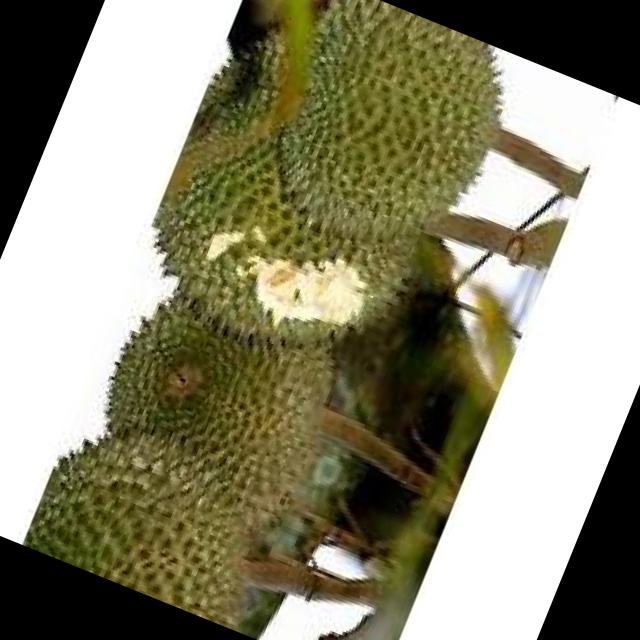fruit: (106, 0, 562, 430), (6, 227, 404, 640)
